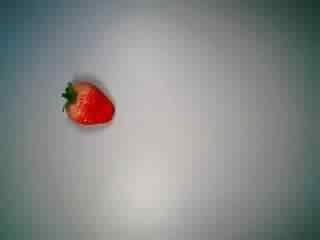strawberry: (52, 72, 118, 138)
